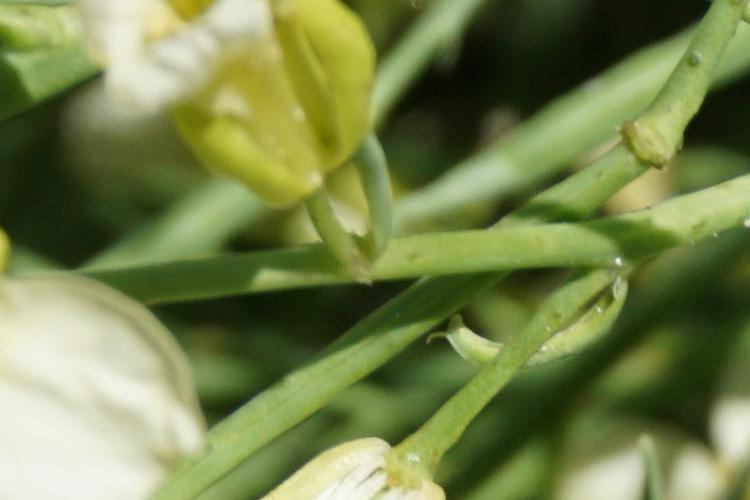white: (105, 14, 402, 204), (12, 283, 247, 489)
